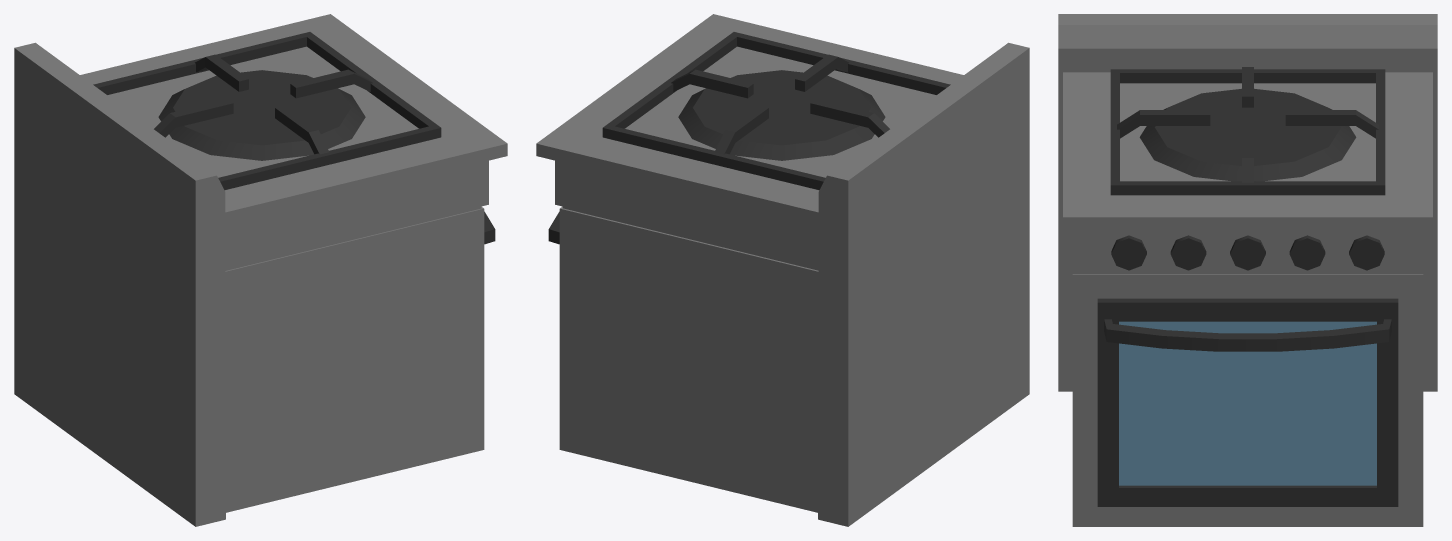
File: SM_Oven_Gas_SingleBurner.fbx
3 views of the same model, side by side, from view 1: azimuth 30°, elevation 25°; view 2: azimuth 150°, elevation 25°; view 3: azimuth 270°, elevation 25° (orthographic). The views are drawn at different scales.
Visible parts, largest first — view 1: SM_Oven_SingleBurner; view 2: SM_Oven_SingleBurner; view 3: SM_Oven_SingleBurner.
Boxes of the visible parts, x1,y1,x2,y2 form: SM_Oven_SingleBurner: (14, 14, 507, 526); SM_Oven_SingleBurner: (536, 14, 1029, 526); SM_Oven_SingleBurner: (1058, 14, 1437, 526).
Bounding box in the file's own units: 1.09 × 1.05 × 1.
